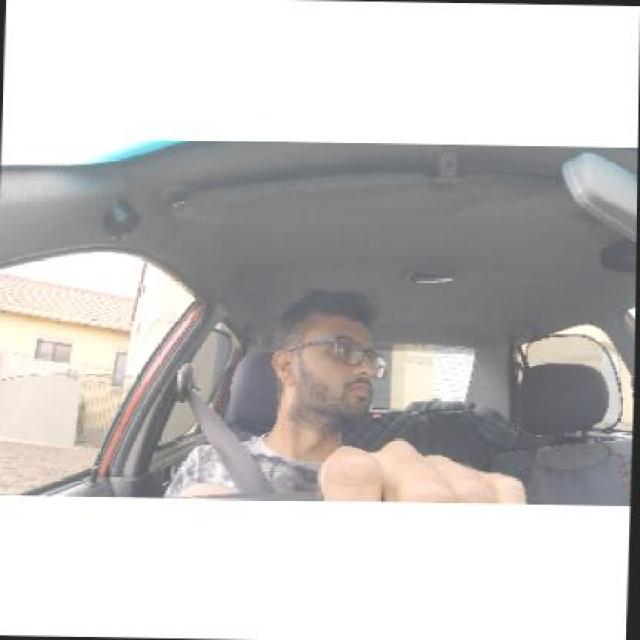LeftRight: (262, 283, 394, 431)
